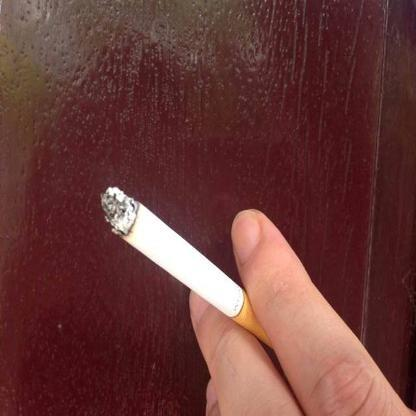trash: (102, 188, 271, 343)
